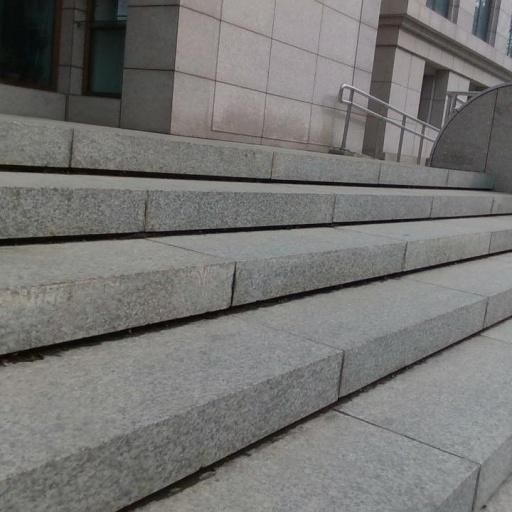stairs: (0, 117, 511, 511)
